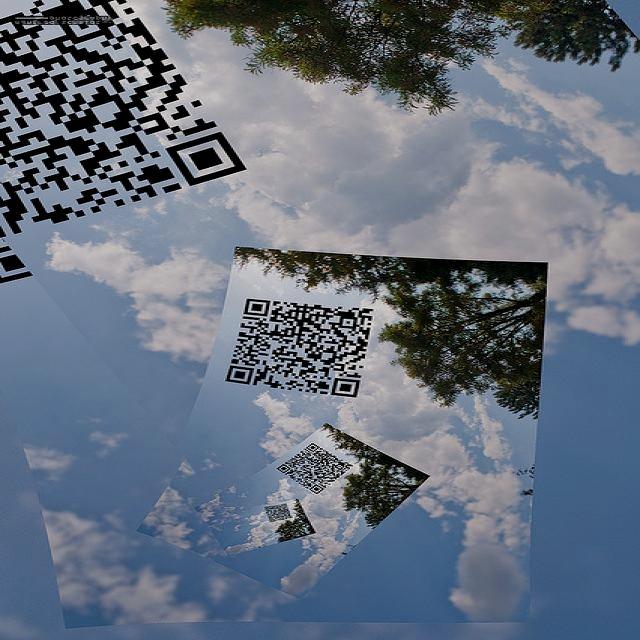qr-code: (0, 1, 246, 239), (224, 299, 372, 398), (276, 444, 353, 495), (264, 504, 292, 523)
